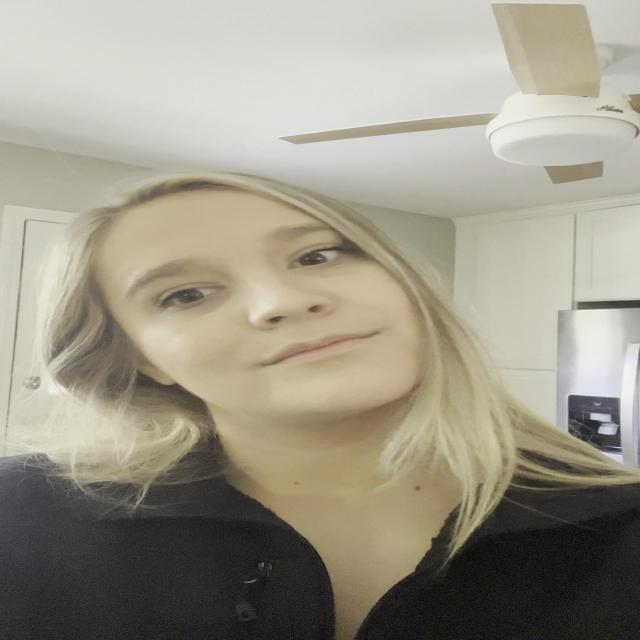no-helmet: (69, 188, 478, 474)
